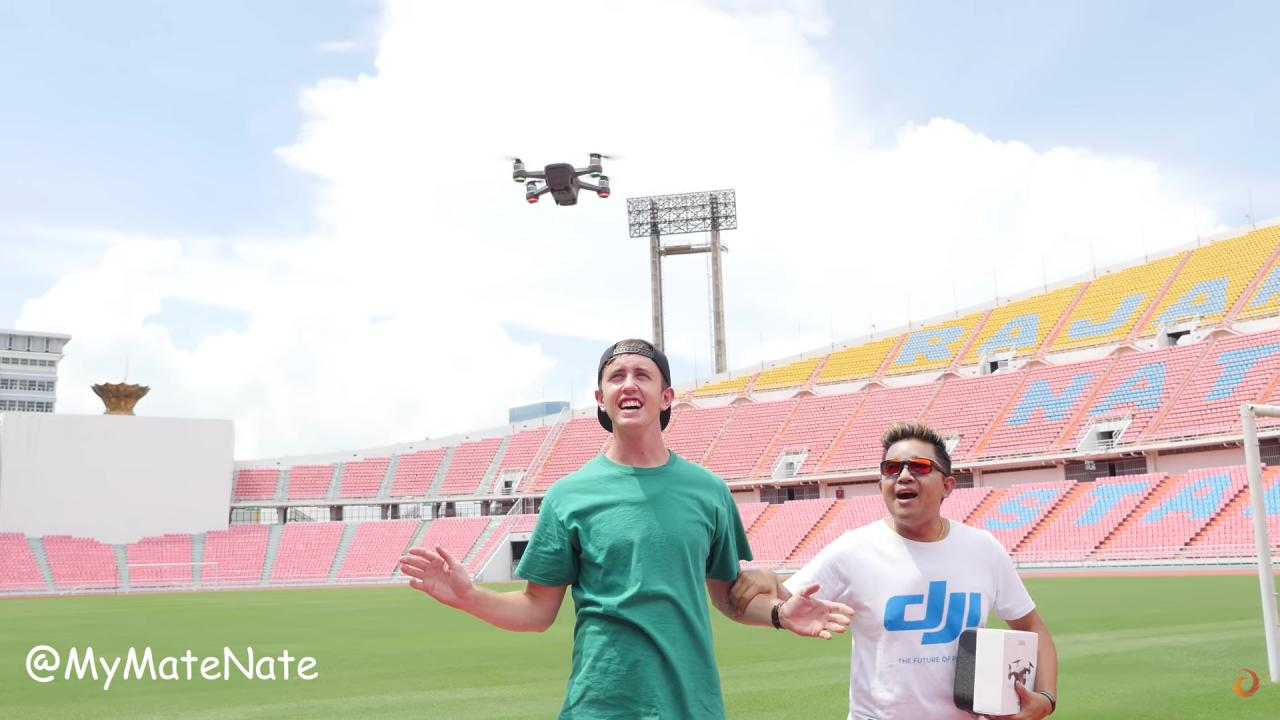Drone: (483, 131, 633, 219)
